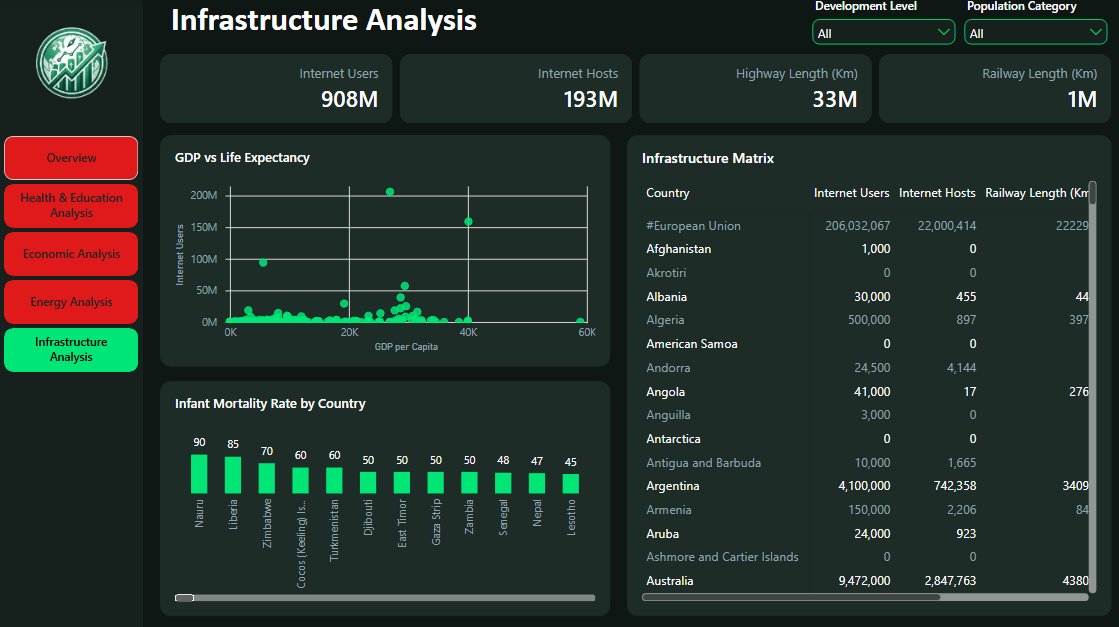

What the dashboard file says about the page in this screenshot:
{"tool":"powerbi","page":{"name":"Infrastructure Analysis","canvas":[1280,720],"ordinal":4},"visuals":[{"type":"shape","box":[0,0,163,719.5],"z":0},{"type":"textbox","box":[194.8,0,445.4,51.3],"z":1000},{"type":"cardVisual","fields":{"Data":["DAX Measures.Avg Internet Users","DAX Measures.Internet Hosts","DAX Measures.Highway Length (Km)","DAX Measures.Railway Length (Km)"]},"box":[182.3,63.8,1084.6,79.7],"z":2000},{"type":"image","box":[21.6,0,119.9,172.5],"z":3000},{"type":"slicer","fields":{"Values":["Dim Country.Population Category"]},"box":[1093.7,0,173.2,60.4],"z":4000},{"type":"scatterChart","title":"GDP vs Life Expectancy","fields":{"Category":["Dim Country.Country"],"X":["DAX Measures.Avg GDP per Capita"],"Y":["DAX Measures.Internet Users"]},"box":[181.9,156.3,513.3,264.1],"z":5000},{"type":"columnChart","title":"Infant Mortality Rate by Country","fields":{"Category":["Dim Country.Country"],"Y":["DAX Measures.Unemployment Rate"]},"box":[181.9,436.5,513.3,268.1],"z":6000},{"type":"pivotTable","title":"Infrastructure Matrix","fields":{"Rows":["Dim Country.Country"],"Values":["DAX Measures.Internet Users","DAX Measures.Internet Hosts","DAX Measures.Railway Length (Km)","DAX Measures.Highway Length (Km)"]},"box":[714.1,156.3,552.4,548.4],"z":7000},{"type":"pageNavigator","box":[4.6,157.2,153.8,50.1],"z":8000},{"type":"pageNavigator","box":[4.6,211.9,153.8,50.1],"z":9000},{"type":"pageNavigator","box":[4.6,266.6,153.8,50.1],"z":10000},{"type":"pageNavigator","box":[4.6,321.3,153.8,50.1],"z":11000},{"type":"pageNavigator","box":[4.6,375.9,153.8,50.1],"z":12000},{"type":"slicer","fields":{"Values":["Dim Country.Development Level"]},"box":[920.5,0,173.2,60.4],"z":12001}]}

Visuals, with their boxes on the page's 1280x720 design canvas (x1, y1, x2, y2). These are canvas units, not pixel positions in the 1119x627 screenshot, which may show the page scaled, cropped or inside an application window:
shape: <bbox>0, 0, 163, 720</bbox>
textbox: <bbox>195, 0, 640, 51</bbox>
cardVisual - DAX Measures.Avg Internet Users x DAX Measures.Internet Hosts: <bbox>182, 64, 1267, 144</bbox>
image: <bbox>22, 0, 142, 172</bbox>
slicer - Dim Country.Population Category: <bbox>1094, 0, 1267, 60</bbox>
"GDP vs Life Expectancy" scatterChart: <bbox>182, 156, 695, 420</bbox>
"Infant Mortality Rate by Country" columnChart: <bbox>182, 436, 695, 705</bbox>
"Infrastructure Matrix" pivotTable: <bbox>714, 156, 1266, 705</bbox>
pageNavigator: <bbox>5, 157, 158, 207</bbox>
pageNavigator: <bbox>5, 212, 158, 262</bbox>
pageNavigator: <bbox>5, 267, 158, 317</bbox>
pageNavigator: <bbox>5, 321, 158, 371</bbox>
pageNavigator: <bbox>5, 376, 158, 426</bbox>
slicer - Dim Country.Development Level: <bbox>920, 0, 1094, 60</bbox>
